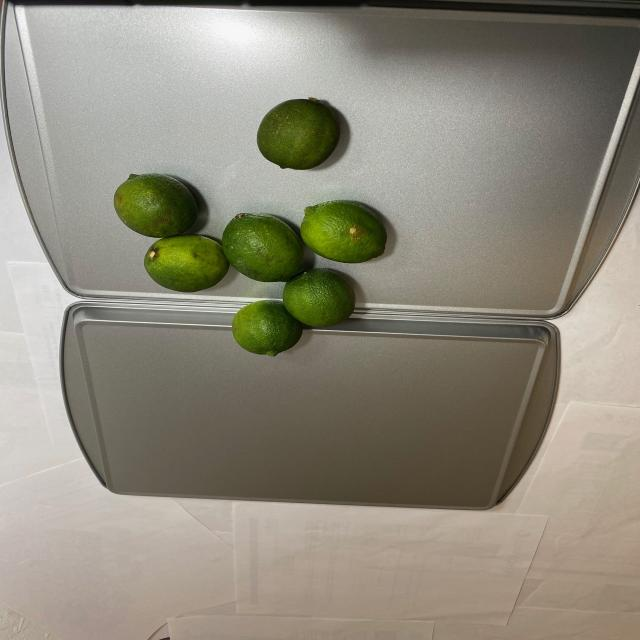lemon: (110, 95, 392, 358)
